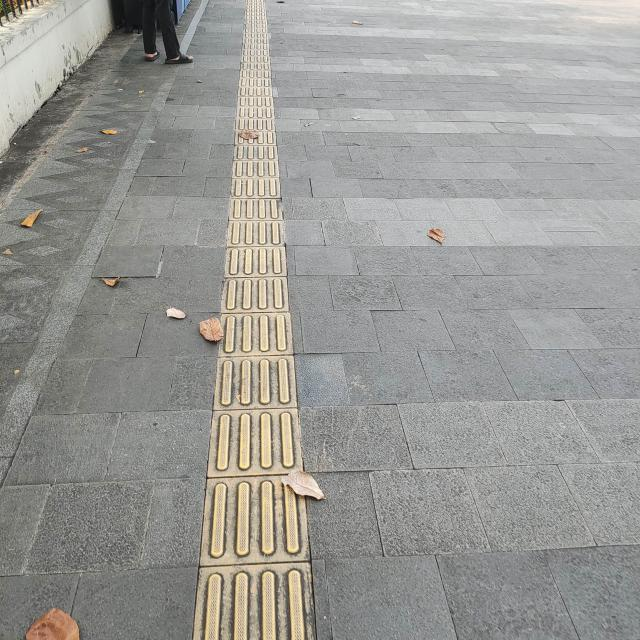lurus: (205, 35, 302, 640)
